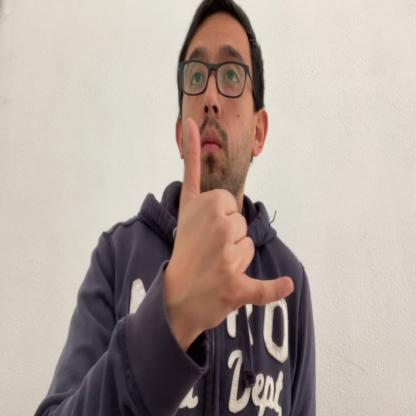Y: (177, 118, 294, 315)
